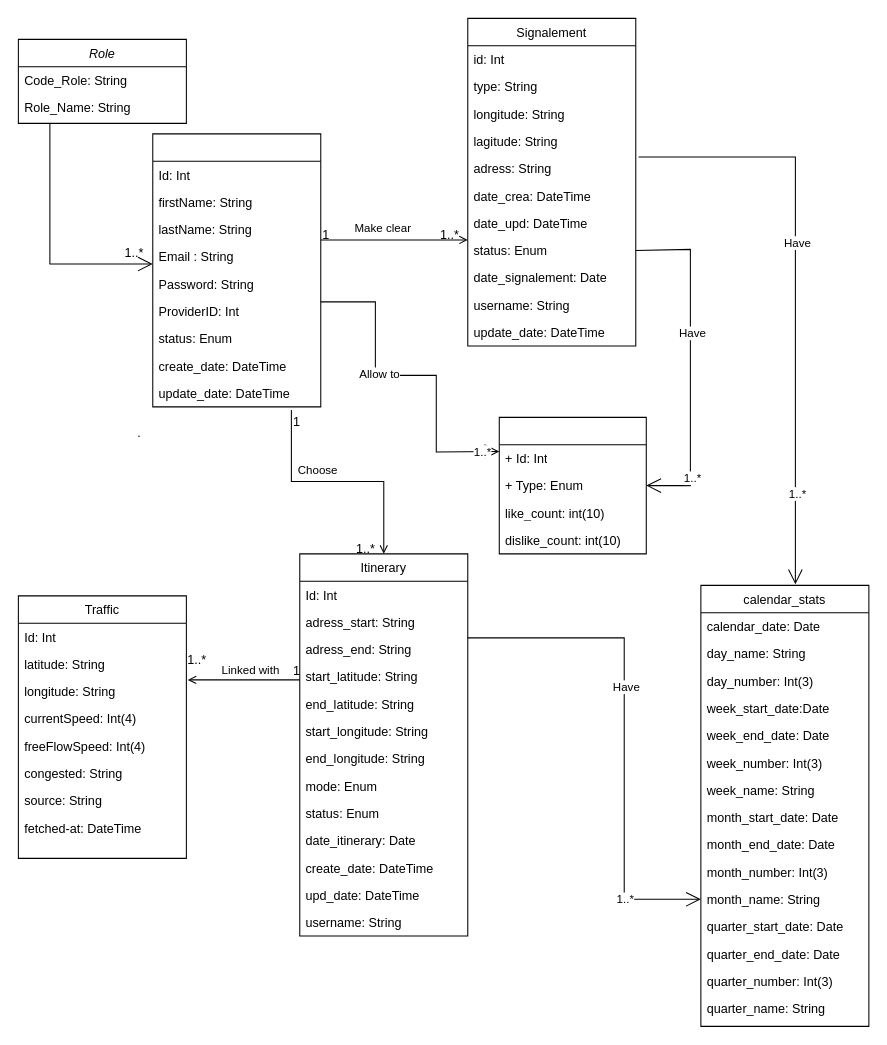
The diagram is 887 pixels wide and 1045 high, and some of its shapes have lost their labels. The shapes that lost their labels are listed below. From the top down, each one's box as (x1, y1, x2, y2) in pixels, then its label:
(152, 133, 321, 407): Users
(498, 416, 646, 554): Vote
